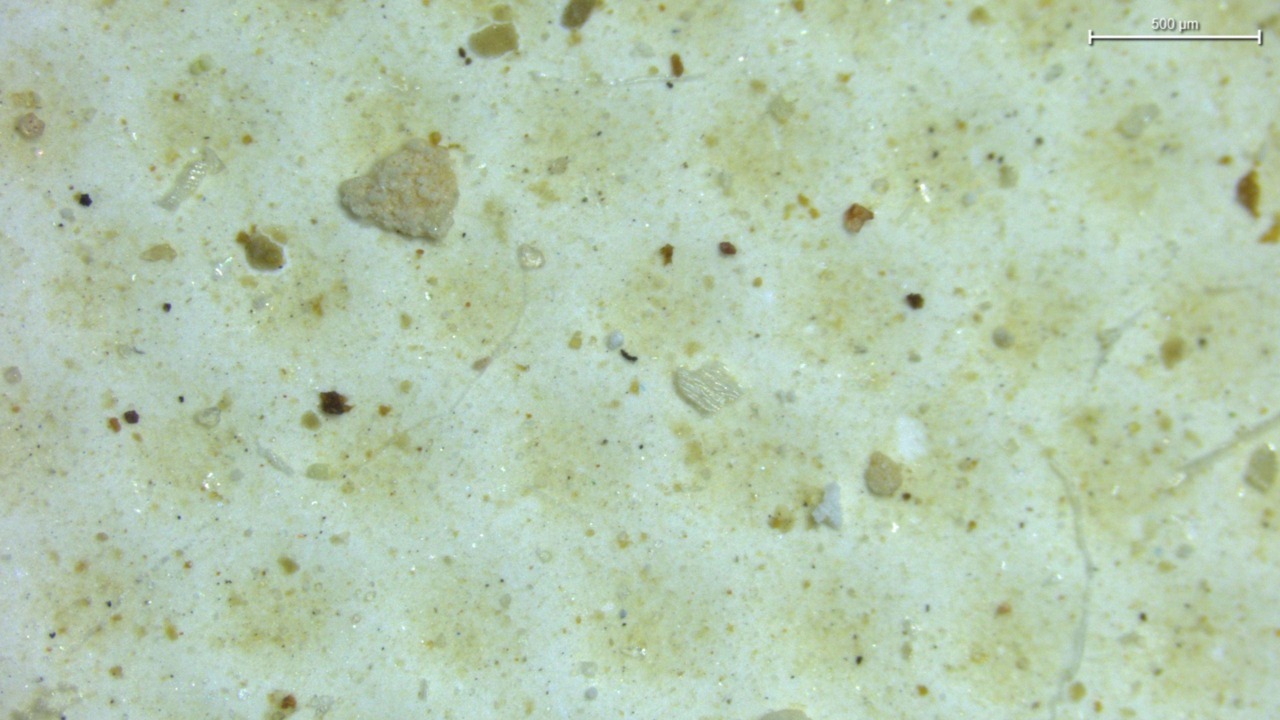microplastic_fragment: (339, 142, 458, 241), (158, 148, 224, 209), (673, 362, 742, 413), (865, 452, 902, 497), (812, 482, 842, 530), (607, 330, 624, 350)
